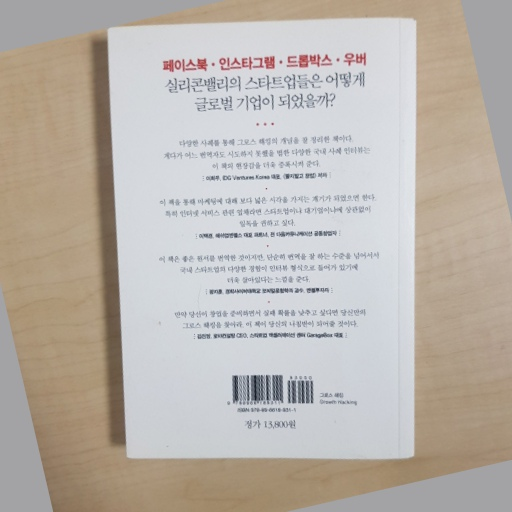Paper_0: (100, 13, 432, 470)
